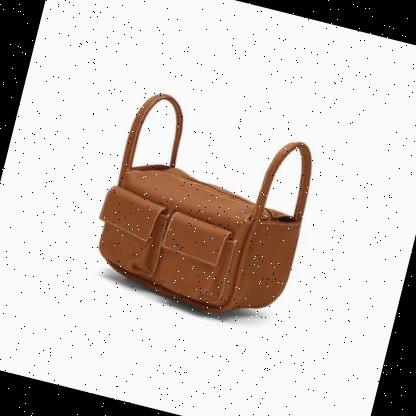bag: (78, 80, 331, 339)
